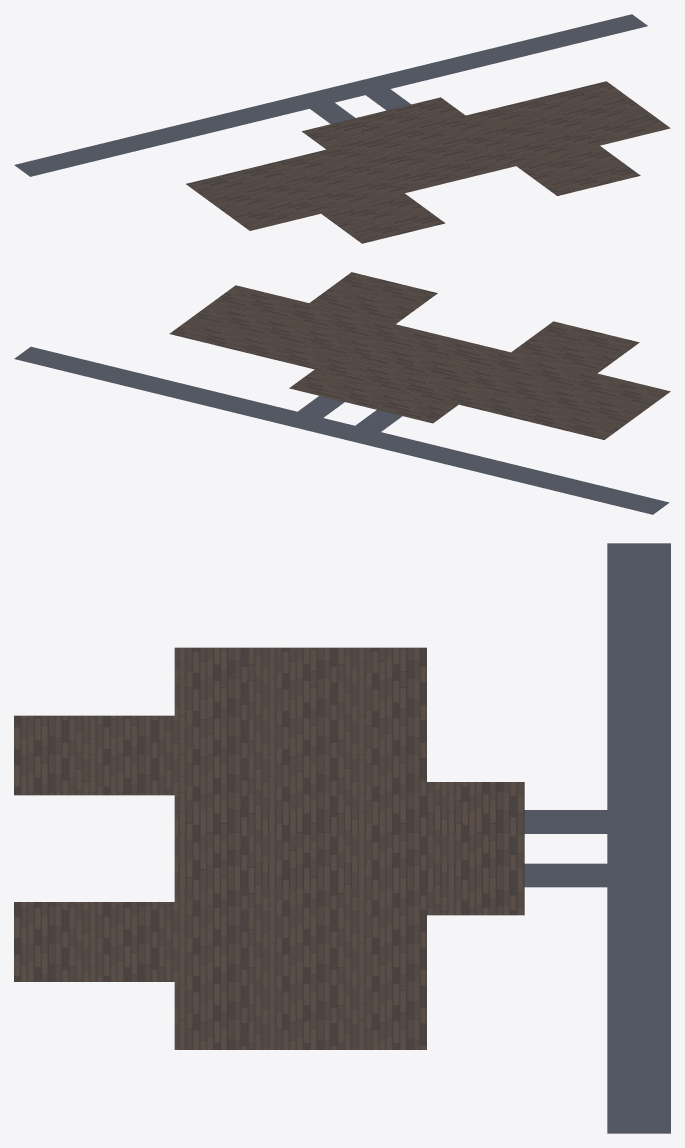
File: Tienda1_Floor.fbx
3 views of the same model, one above another, from view 1: azimuth 30°, elevation 25°; view 2: azimuth 150°, elevation 25°; view 3: azimuth 270°, elevation 25° (orthographic). The views are drawn at different scales.
Visible parts, largest first — view 1: Floor; view 2: Floor; view 3: Floor.
Boxes of the visible parts, x1,y1,x2,y2 form: Floor: (14,14,670,243); Floor: (14,272,670,514); Floor: (14,543,670,1133).
Size of the model in its own units: 4433 by 0.00034 by 2084.
